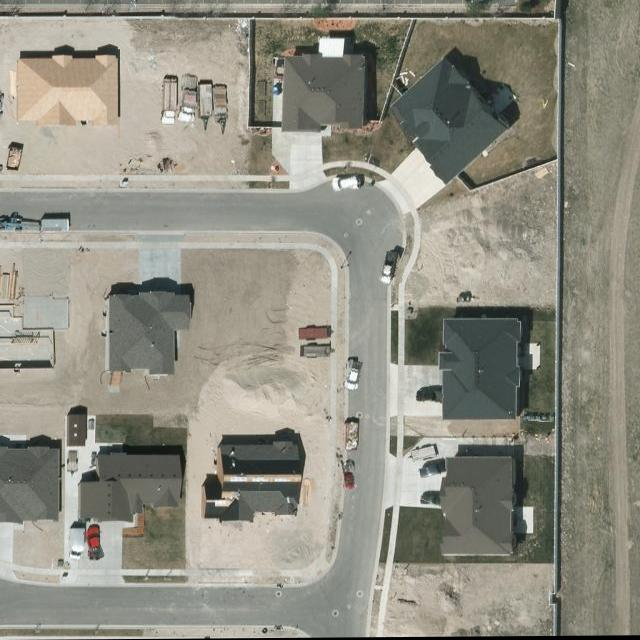vehicle: (375, 250, 403, 287), (178, 75, 198, 125), (161, 79, 178, 126), (343, 360, 361, 392), (418, 461, 451, 478), (86, 528, 103, 560), (331, 175, 361, 193), (340, 461, 358, 491), (69, 529, 85, 560), (414, 391, 445, 403), (420, 495, 445, 507)
